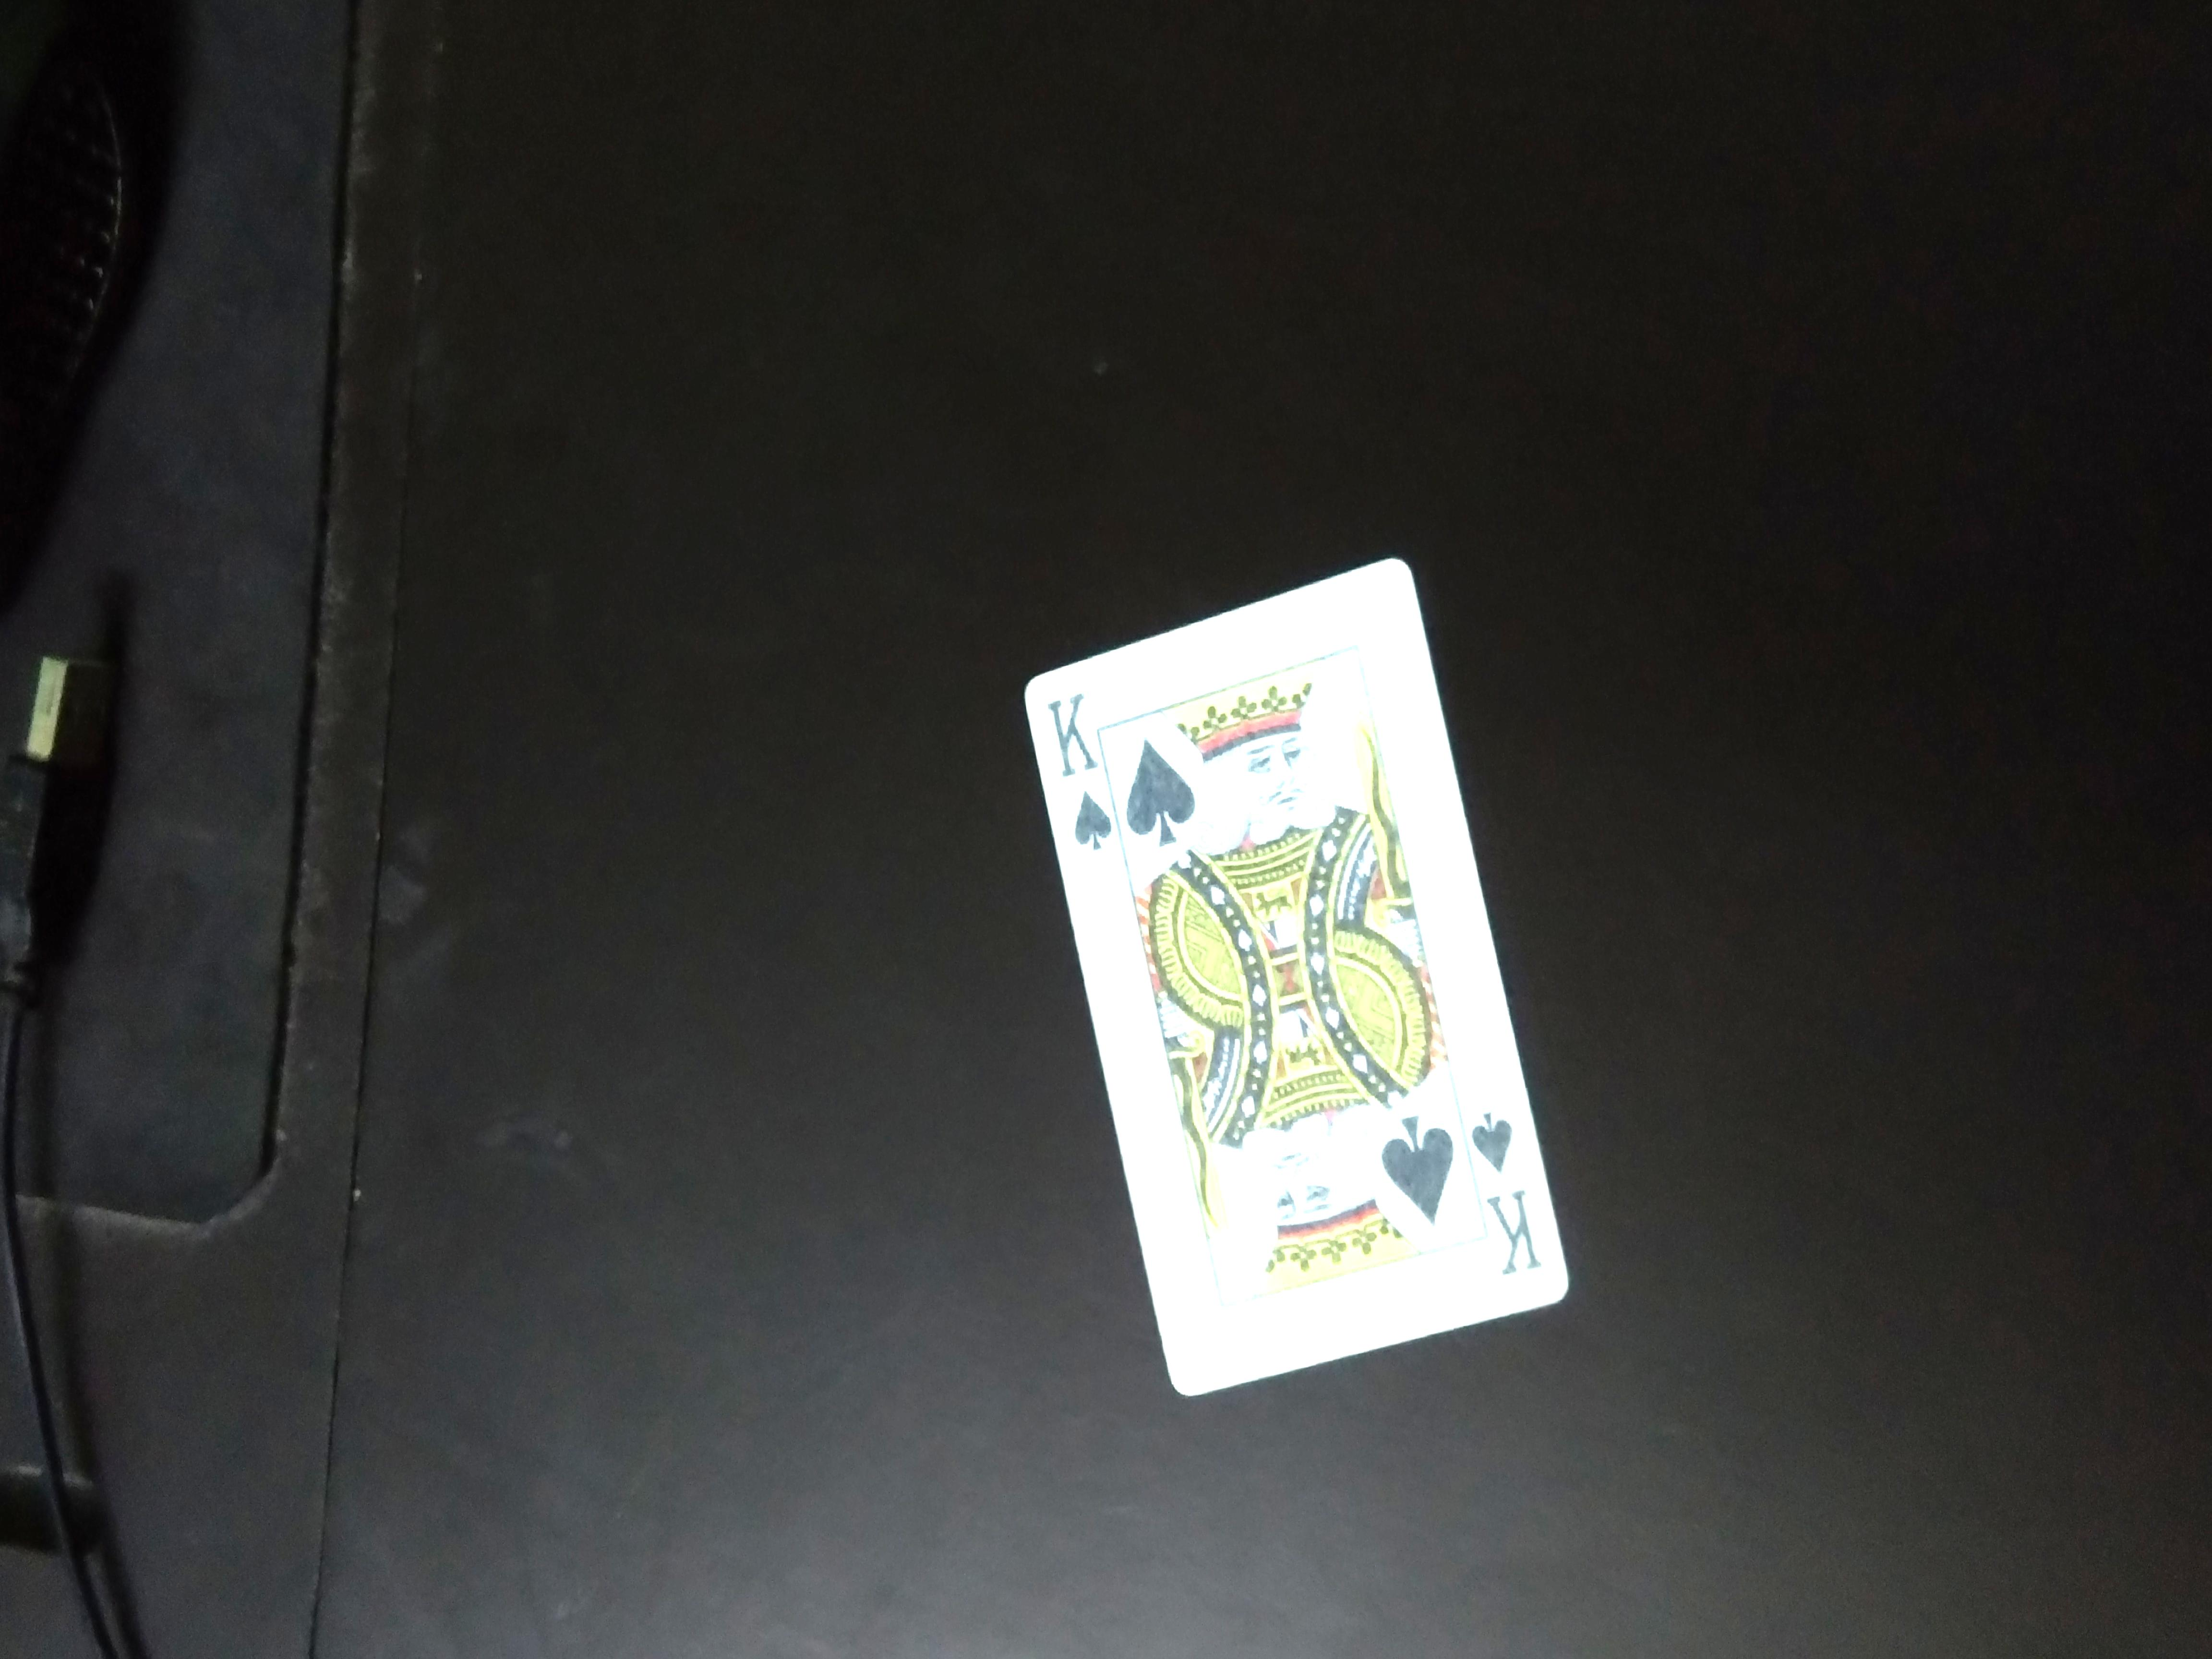KS: (1022, 660, 1118, 861)
